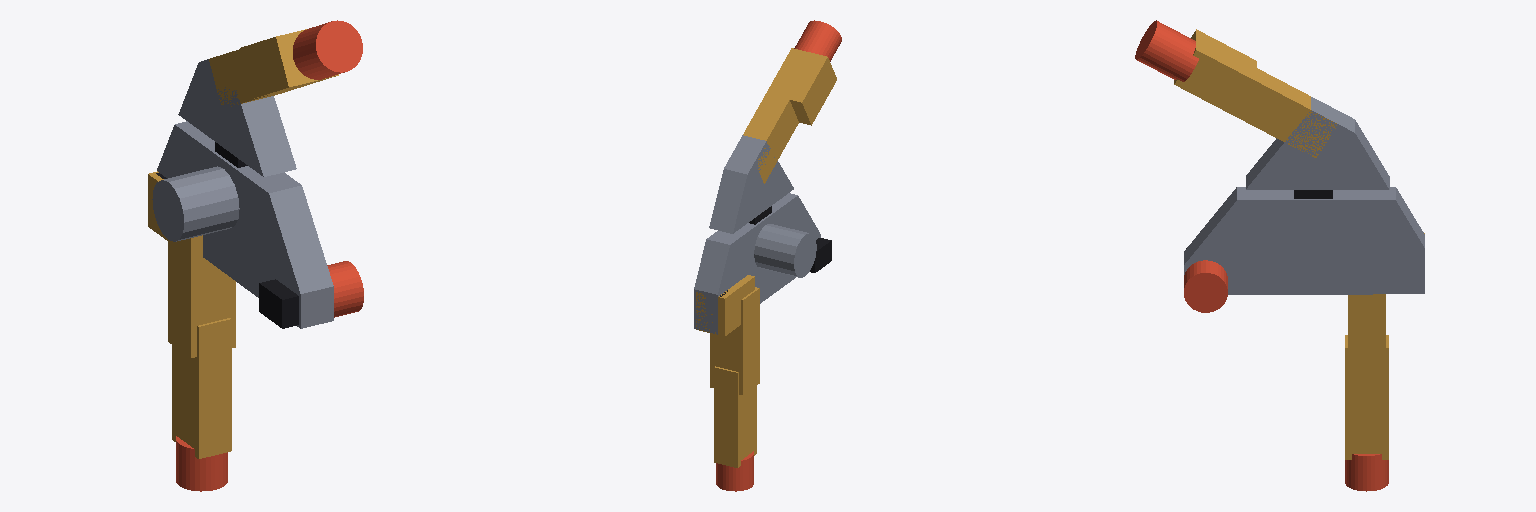
The robot description file, URDF, robot "g0026_c09":
<robot name="g0026_c09">
  <link name="palm">
    <visual name="palm_palm1">
      <origin xyz="0 0 0" rpy="0 0 0" />
      <geometry>
        <mesh filename="palm_palm1.obj" />
      </geometry>
      <material name="palm_palm1_mat">
        <color rgba="0.55 0.57 0.62 1" />
      </material>
    </visual>
    <collision>
      <origin xyz="0 0 0" rpy="0 0 0" />
      <geometry>
        <mesh filename="palm_palm1.obj" />
      </geometry>
    </collision>
    <visual name="palm_mount2">
      <origin xyz="0 0 0" rpy="0 0 0" />
      <geometry>
        <mesh filename="palm_mount2.obj" />
      </geometry>
      <material name="palm_mount2_mat">
        <color rgba="0.55 0.57 0.62 1" />
      </material>
    </visual>
    <collision>
      <origin xyz="0 0 0" rpy="0 0 0" />
      <geometry>
        <mesh filename="palm_mount2.obj" />
      </geometry>
    </collision>
    <visual name="palm_hinge3">
      <origin xyz="0 -1.37772765e-18 0.0225" rpy="-1.57079633 -6.123234e-17 1.57079633" />
      <geometry>
        <box size="0.029 0.034 0.02" />
      </geometry>
      <material name="palm_hinge3_mat">
        <color rgba="0.15 0.15 0.17 1" />
      </material>
    </visual>
    <collision>
      <origin xyz="0 -1.37772765e-18 0.0225" rpy="-1.57079633 -6.123234e-17 1.57079633" />
      <geometry>
        <box size="0.029 0.034 0.02" />
      </geometry>
    </collision>
    <visual name="palm_motor4">
      <origin xyz="-0.007 -0.08 -0.04" rpy="1.12481984e-32 -2.4492936e-16 1.57079633" />
      <geometry>
        <box size="0.029 0.034 0.02" />
      </geometry>
      <material name="palm_motor4_mat">
        <color rgba="0.15 0.15 0.17 1" />
      </material>
    </visual>
    <collision>
      <origin xyz="-0.007 -0.08 -0.04" rpy="1.12481984e-32 -2.4492936e-16 1.57079633" />
      <geometry>
        <box size="0.029 0.034 0.02" />
      </geometry>
    </collision>
    <visual name="palm_motor5">
      <origin xyz="-0.0045 0.0665 -0.0325" rpy="1.57079633 1.2246468e-16 -1.57079633" />
      <geometry>
        <box size="0.029 0.034 0.02" />
      </geometry>
      <material name="palm_motor5_mat">
        <color rgba="0.15 0.15 0.17 1" />
      </material>
    </visual>
    <collision>
      <origin xyz="-0.0045 0.0665 -0.0325" rpy="1.57079633 1.2246468e-16 -1.57079633" />
      <geometry>
        <box size="0.029 0.034 0.02" />
      </geometry>
    </collision>
    <inertial>
      <origin xyz="-2.36733334e-19 -0.0030954297 -0.0157049176" rpy="1.57079633 -0.0423534109 1.57079633" />
      <mass value="0.521792331" />
      <inertia ixx="0.000272357232" ixy="0" ixz="0" iyy="0.00120089103" iyz="0" izz="0.0014231562" />
    </inertial>
  </link>
  <link name="palm0">
    <visual name="palm0_palm1">
      <origin xyz="0 0 0" rpy="0 0 0" />
      <geometry>
        <mesh filename="palm0_palm1.obj" />
      </geometry>
      <material name="palm0_palm1_mat">
        <color rgba="0.55 0.57 0.62 1" />
      </material>
    </visual>
    <collision>
      <origin xyz="0 0 0" rpy="0 0 0" />
      <geometry>
        <mesh filename="palm0_palm1.obj" />
      </geometry>
    </collision>
    <visual name="palm0_motor2">
      <origin xyz="0 0.00649519053 0.04625" rpy="-1.57079633 -1.04719755 1.57079633" />
      <geometry>
        <box size="0.029 0.034 0.02" />
      </geometry>
      <material name="palm0_motor2_mat">
        <color rgba="0.15 0.15 0.17 1" />
      </material>
    </visual>
    <collision>
      <origin xyz="0 0.00649519053 0.04625" rpy="-1.57079633 -1.04719755 1.57079633" />
      <geometry>
        <box size="0.029 0.034 0.02" />
      </geometry>
    </collision>
    <inertial>
      <origin xyz="0 0.00510450647 0.0282281372" rpy="1.57079633 -0.0453892746 1.57079633" />
      <mass value="0.170115245" />
      <inertia ixx="5.2511818e-05" ixy="0" ixz="0" iyy="9.67241383e-05" iyz="0" izz="0.000132904893" />
    </inertial>
  </link>
  <link name="f0_link0">
    <visual name="f0_link0_link1">
      <origin xyz="0.019 0 0" rpy="-1.57079633 -0 -1.57079633" />
      <geometry>
        <cylinder radius="0.0165" length="0.029" />
      </geometry>
      <material name="f0_link0_link1_mat">
        <color rgba="0.85 0.35 0.25 1" />
      </material>
    </visual>
    <collision>
      <origin xyz="0.019 0 0" rpy="-1.57079633 -0 -1.57079633" />
      <geometry>
        <cylinder radius="0.0165" length="0.029" />
      </geometry>
    </collision>
    <inertial>
      <origin xyz="0.019 0 0" rpy="0 0 0" />
      <mass value="0.0763354" />
      <inertia ixx="9.49466441e-06" ixy="0" ixz="0" iyy="2.24143997e-05" iyz="0" izz="2.24143997e-05" />
    </inertial>
  </link>
  <link name="f1_link0">
    <visual name="f1_link0_link1">
      <origin xyz="0.03375 0 0" rpy="0 7.03853194e-17 0" />
      <geometry>
        <box size="0.0915 0.024 0.033" />
      </geometry>
      <material name="f1_link0_link1_mat">
        <color rgba="0.80 0.62 0.30 1" />
      </material>
    </visual>
    <collision>
      <origin xyz="0.03375 0 0" rpy="0 7.03853194e-17 0" />
      <geometry>
        <box size="0.0915 0.024 0.033" />
      </geometry>
    </collision>
    <inertial>
      <origin xyz="0.03375 0 0" rpy="0 0 0" />
      <mass value="0.126819" />
      <inertia ixx="1.75961363e-05" ixy="0" ixz="0" iyy="9.99888553e-05" iyz="0" izz="9.45673431e-05" />
    </inertial>
  </link>
  <link name="f1_link1">
    <visual name="f1_link1_link1">
      <origin xyz="0.014 -0.00625 -1.38777878e-17" rpy="0 7.03853194e-17 0" />
      <geometry>
        <box size="0.052 0.0365 0.033" />
      </geometry>
      <material name="f1_link1_link1_mat">
        <color rgba="0.80 0.62 0.30 1" />
      </material>
    </visual>
    <collision>
      <origin xyz="0.014 -0.00625 -1.38777878e-17" rpy="0 7.03853194e-17 0" />
      <geometry>
        <box size="0.052 0.0365 0.033" />
      </geometry>
    </collision>
    <inertial>
      <origin xyz="0.014 -0.00625 0" rpy="0 0 0" />
      <mass value="0.1096095" />
      <inertia ixx="2.21160002e-05" ixy="0" ixz="0" iyy="3.46457361e-05" iyz="0" izz="3.6867612e-05" />
    </inertial>
  </link>
  <link name="f1_link2">
    <visual name="f1_link2_link1">
      <origin xyz="0.024 0 -6.9388939e-18" rpy="-1.57079633 -0 -1.57079633" />
      <geometry>
        <cylinder radius="0.0165" length="0.039" />
      </geometry>
      <material name="f1_link2_link1_mat">
        <color rgba="0.85 0.35 0.25 1" />
      </material>
    </visual>
    <collision>
      <origin xyz="0.024 0 -6.9388939e-18" rpy="-1.57079633 -0 -1.57079633" />
      <geometry>
        <cylinder radius="0.0165" length="0.039" />
      </geometry>
    </collision>
    <inertial>
      <origin xyz="0.024 0 0" rpy="0 0 0" />
      <mass value="0.0913031255" />
      <inertia ixx="1.1532146e-05" ixy="0" ixz="0" iyy="3.54254069e-05" iyz="0" izz="3.54254069e-05" />
    </inertial>
  </link>
  <link name="f2_link0">
    <visual name="f2_link0_link1">
      <origin xyz="-0.00625 0 -0.0165" rpy="0 -0 0" />
      <geometry>
        <box size="0.0365 0.029 0.053" />
      </geometry>
      <material name="f2_link0_link1_mat">
        <color rgba="0.80 0.62 0.30 1" />
      </material>
    </visual>
    <collision>
      <origin xyz="-0.00625 0 -0.0165" rpy="0 -0 0" />
      <geometry>
        <box size="0.0365 0.029 0.053" />
      </geometry>
    </collision>
    <inertial>
      <origin xyz="-0.00625 0 -0.0165" rpy="0 0 0" />
      <mass value="0.098175875" />
      <inertia ixx="2.98618286e-05" ixy="0" ixz="0" iyy="3.38809035e-05" iyz="0" izz="1.778006e-05" />
    </inertial>
  </link>
  <link name="f2_link1">
    <visual name="f2_link1_link1">
      <origin xyz="0.03375 0 -6.9388939e-18" rpy="0 -0 0" />
      <geometry>
        <box size="0.0915 0.033 0.029" />
      </geometry>
      <material name="f2_link1_link1_mat">
        <color rgba="0.80 0.62 0.30 1" />
      </material>
    </visual>
    <collision>
      <origin xyz="0.03375 0 -6.9388939e-18" rpy="0 -0 0" />
      <geometry>
        <box size="0.0915 0.033 0.029" />
      </geometry>
    </collision>
    <inertial>
      <origin xyz="0.03375 0 0" rpy="0 0 0" />
      <mass value="0.153239625" />
      <inertia ixx="2.46460397e-05" ixy="0" ixz="0" iyy="0.000117652915" iyz="0" izz="0.000120819867" />
    </inertial>
  </link>
  <link name="f2_link2">
    <visual name="f2_link2_link1">
      <origin xyz="0.03375 0 0" rpy="0 -0 0" />
      <geometry>
        <box size="0.0915 0.024 0.033" />
      </geometry>
      <material name="f2_link2_link1_mat">
        <color rgba="0.80 0.62 0.30 1" />
      </material>
    </visual>
    <collision>
      <origin xyz="0.03375 0 0" rpy="0 -0 0" />
      <geometry>
        <box size="0.0915 0.024 0.033" />
      </geometry>
    </collision>
    <inertial>
      <origin xyz="0.03375 0 0" rpy="0 0 0" />
      <mass value="0.126819" />
      <inertia ixx="1.75961363e-05" ixy="0" ixz="0" iyy="9.99888553e-05" iyz="0" izz="9.45673431e-05" />
    </inertial>
  </link>
  <link name="f2_link3">
    <visual name="f2_link3_link1">
      <origin xyz="0.019 0 0" rpy="-1.57079633 -0 -1.57079633" />
      <geometry>
        <cylinder radius="0.0165" length="0.029" />
      </geometry>
      <material name="f2_link3_link1_mat">
        <color rgba="0.85 0.35 0.25 1" />
      </material>
    </visual>
    <collision>
      <origin xyz="0.019 0 0" rpy="-1.57079633 -0 -1.57079633" />
      <geometry>
        <cylinder radius="0.0165" length="0.029" />
      </geometry>
    </collision>
    <inertial>
      <origin xyz="0.019 0 0" rpy="0 0 0" />
      <mass value="0.0763354" />
      <inertia ixx="9.49466441e-06" ixy="0" ixz="0" iyy="2.24143997e-05" iyz="0" izz="2.24143997e-05" />
    </inertial>
  </link>
  <joint name="palm0_joint" type="revolute">
    <parent link="palm" />
    <child link="palm0" />
    <origin xyz="0 -1.8369702e-18 0.03" rpy="0 0 0" />
    <axis xyz="0 1 6.123234e-17" />
    <limit effort="0.5" lower="-0.523598776" upper="0.523598776" velocity="5" />
    <dynamics damping="0.0775033" friction="0" />
  </joint>
  <joint name="f0_j0" type="revolute">
    <parent link="palm" />
    <child link="f0_link0" />
    <origin xyz="0.0005 -0.08 -0.04" rpy="1.8369702e-16 1.12481984e-32 -6.123234e-17" />
    <axis xyz="-0 -1 -6.123234e-17" />
    <limit effort="0.5" lower="-0.523598776" upper="0.523598776" velocity="5" />
    <dynamics damping="0.0775033" friction="0" />
  </joint>
  <joint name="f1_j0" type="revolute">
    <parent link="palm0" />
    <child link="f1_link0" />
    <origin xyz="0 1.8369702e-18 0.05" rpy="-0 -0.523598776 -1.57079633" />
    <axis xyz="0 0 1" />
    <limit effort="0.5" lower="-0.523598776" upper="1.57079633" velocity="5" />
    <dynamics damping="0.0775033" friction="0" />
  </joint>
  <joint name="f1_j1" type="revolute">
    <parent link="f1_link0" />
    <child link="f1_link1" />
    <origin xyz="0.07 0 0" rpy="0 0 0" />
    <axis xyz="0 0 1" />
    <limit effort="0.5" lower="-0.523598776" upper="1.57079633" velocity="5" />
    <dynamics damping="0.0775033" friction="0" />
  </joint>
  <joint name="f1_j2" type="revolute">
    <parent link="f1_link1" />
    <child link="f1_link2" />
    <origin xyz="0.03 0 0" rpy="0 0 0" />
    <axis xyz="0 0 1" />
    <limit effort="0.5" lower="-0.523598776" upper="1.57079633" velocity="5" />
    <dynamics damping="0.0775033" friction="0" />
  </joint>
  <joint name="f2_j0" type="revolute">
    <parent link="palm" />
    <child link="f2_link0" />
    <origin xyz="-0.0045 0.04 -0.04" rpy="1.57079633 1.57079633 0" />
    <axis xyz="0 0 1" />
    <limit effort="0.5" lower="-0.523598776" upper="1.57079633" velocity="5" />
    <dynamics damping="0.0775033" friction="0" />
  </joint>
  <joint name="f2_j1" type="revolute">
    <parent link="f2_link0" />
    <child link="f2_link1" />
    <origin xyz="0 0 0" rpy="0 0 0" />
    <axis xyz="0 1 6.123234e-17" />
    <limit effort="0.5" lower="-0.523598776" upper="0.523598776" velocity="5" />
    <dynamics damping="0.0775033" friction="0" />
  </joint>
  <joint name="f2_j2" type="revolute">
    <parent link="f2_link1" />
    <child link="f2_link2" />
    <origin xyz="0.07 0 0" rpy="0 0 0" />
    <axis xyz="0 0 1" />
    <limit effort="0.5" lower="-0.523598776" upper="1.57079633" velocity="5" />
    <dynamics damping="0.0775033" friction="0" />
  </joint>
  <joint name="f2_j3" type="revolute">
    <parent link="f2_link2" />
    <child link="f2_link3" />
    <origin xyz="0.07 0 0" rpy="0 0 0" />
    <axis xyz="0 0 1" />
    <limit effort="0.5" lower="-0.523598776" upper="1.57079633" velocity="5" />
    <dynamics damping="0.0775033" friction="0" />
  </joint>
</robot>

--- Render facts (derived) ---
Views: 3 orthographic renders of the robot side by side, from view 1: azimuth 30°, elevation 25°; view 2: azimuth 150°, elevation 25°; view 3: azimuth 270°, elevation 25°.
Model g0026_c09 with 10 links and 9 joints (9 revolute), rooted at palm, posed every joint at zero.
Visible links, largest first — view 1: palm, f2_link2, palm0, f2_link1, f1_link2, f1_link1, f2_link3, f1_link0, f0_link0; view 2: palm, palm0, f2_link2, f2_link1, f1_link1, f1_link0, f2_link0, f1_link2, f2_link3; view 3: palm, palm0, f1_link0, f2_link2, f2_link1, f1_link1, f1_link2, f0_link0, f2_link3.
Link boxes in pixels (x1=…): palm: x1=152, y1=121, x2=333, y2=328; f2_link2: x1=172, y1=318, x2=231, y2=458; palm0: x1=178, y1=59, x2=296, y2=176; f2_link1: x1=168, y1=235, x2=235, y2=357; f1_link2: x1=293, y1=20, x2=362, y2=79; f1_link1: x1=240, y1=29, x2=338, y2=98; f2_link3: x1=176, y1=436, x2=227, y2=491; f1_link0: x1=209, y1=49, x2=312, y2=106; f0_link0: x1=327, y1=261, x2=363, y2=317; palm: x1=694, y1=193, x2=831, y2=334; palm0: x1=709, y1=135, x2=793, y2=233; f2_link2: x1=714, y1=366, x2=756, y2=467; f2_link1: x1=710, y1=287, x2=759, y2=394; f1_link1: x1=766, y1=48, x2=836, y2=125; f1_link0: x1=743, y1=76, x2=799, y2=183; f2_link0: x1=696, y1=275, x2=754, y2=336; f1_link2: x1=794, y1=20, x2=841, y2=61; f2_link3: x1=716, y1=451, x2=753, y2=491; palm: x1=1184, y1=187, x2=1424, y2=294; palm0: x1=1246, y1=97, x2=1389, y2=189; f1_link0: x1=1210, y1=56, x2=1336, y2=157; f2_link2: x1=1345, y1=335, x2=1388, y2=459; f2_link1: x1=1348, y1=294, x2=1385, y2=376; f1_link1: x1=1174, y1=29, x2=1256, y2=114; f1_link2: x1=1135, y1=20, x2=1198, y2=81; f0_link0: x1=1184, y1=260, x2=1227, y2=312; f2_link3: x1=1345, y1=454, x2=1388, y2=491.
Bounding box of the posed robot: 0.086 × 0.2155 × 0.3795 m (x, y, z).
Meshes: 3 distinct files referenced, 3 mesh visuals loaded (3 OBJ).
